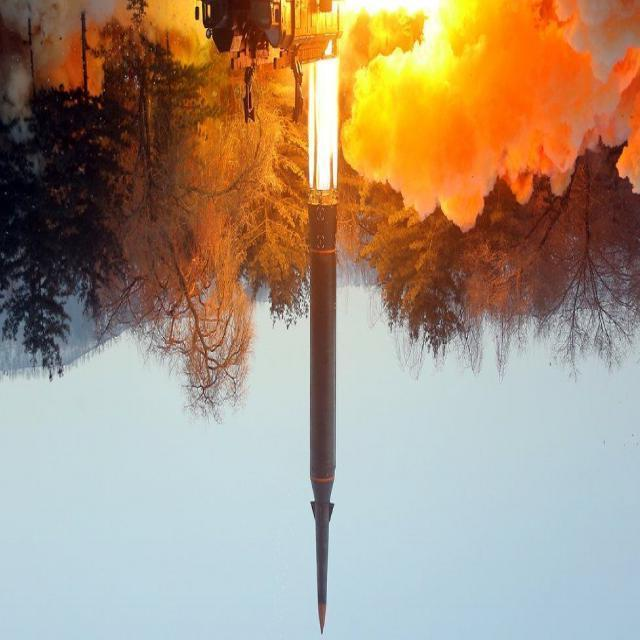missile: (296, 197, 348, 633)
